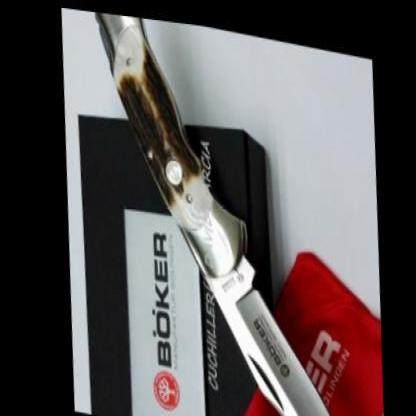knife: (184, 229, 368, 412)
